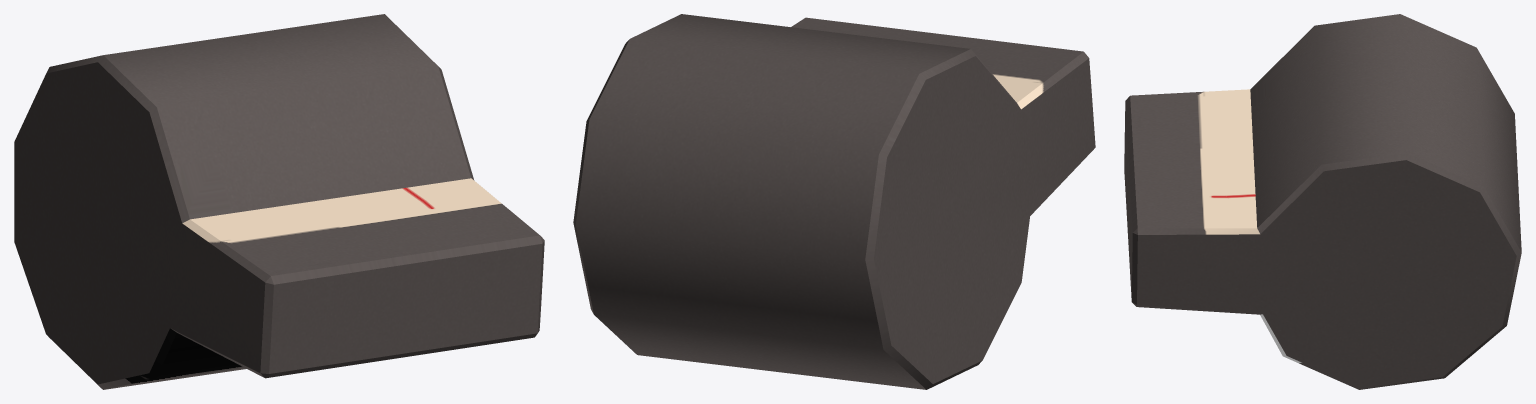
The model's file is FinalSwitch.fbx.
3 views of the same model, side by side, from view 1: azimuth 30°, elevation 25°; view 2: azimuth 150°, elevation 25°; view 3: azimuth 270°, elevation 25° (orthographic). The views are drawn at different scales.
Visible parts, largest first — view 1: Switch_01; view 2: Switch_01; view 3: Switch_01.
Part boxes in pixels (left/top/right/bottom): Switch_01: left=14, top=14, right=544, bottom=389; Switch_01: left=573, top=14, right=1095, bottom=389; Switch_01: left=1124, top=14, right=1521, bottom=389.
Size of the model in its own units: 10.52 by 10.38 by 13.63.
